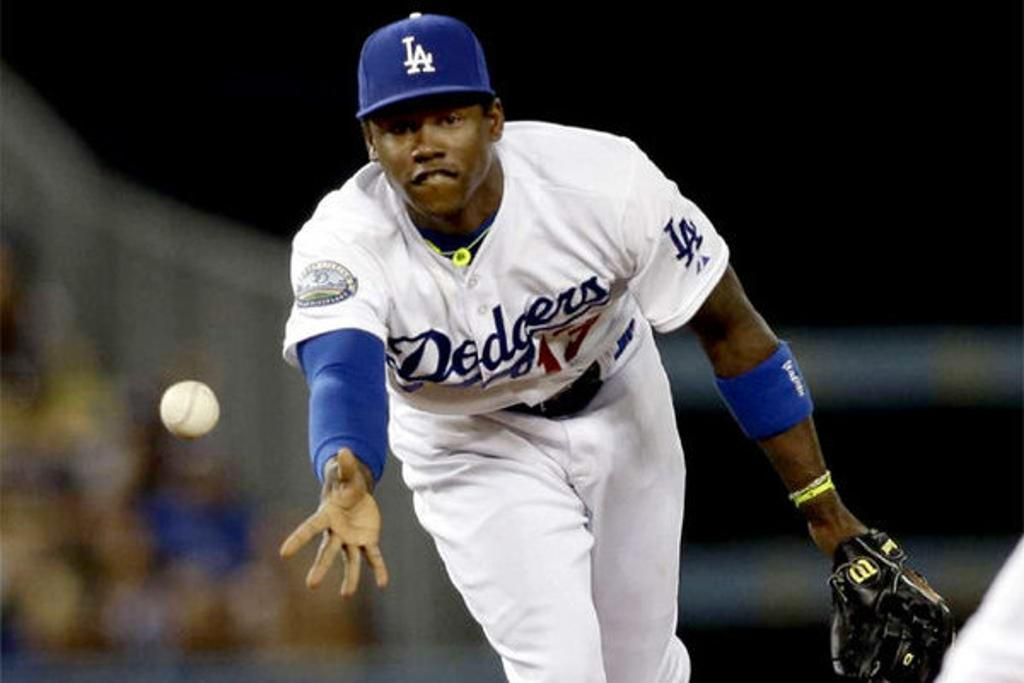face: (380, 68, 484, 214)
